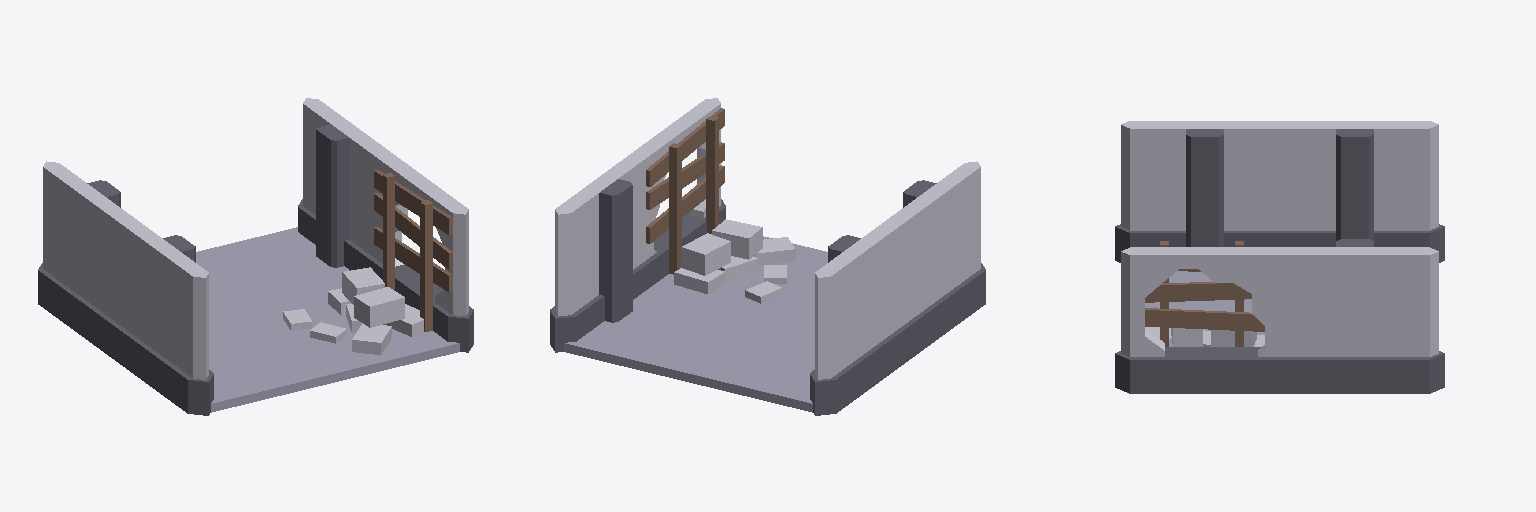
The model's file is hallway_06.obj.
3 views of the same model, side by side, from view 1: azimuth 30°, elevation 25°; view 2: azimuth 150°, elevation 25°; view 3: azimuth 270°, elevation 25° (orthographic).
Visible parts, largest first — view 1: floor_01_11, wall_02_13, wall_04_25, wall_02_12, wall_02_14, debris_bricks_26; view 2: floor_01_11, wall_02_12, wall_02_14, wall_02_13, wall_04_25, debris_bricks_26; view 3: wall_02_14, wall_04_25, wall_02_13, wall_02_12, debris_bricks_26, floor_01_11.
Part boxes in pixels (left/top/right/bottom): floor_01_11: left=196, top=227, right=459, bottom=412; wall_02_13: left=113, top=217, right=213, bottom=415; wall_04_25: left=373, top=153, right=473, bottom=352; wall_02_12: left=38, top=161, right=133, bottom=358; wall_02_14: left=298, top=98, right=393, bottom=270; debris_bricks_26: left=283, top=267, right=423, bottom=354; floor_01_11: left=564, top=236, right=827, bottom=412; wall_02_12: left=810, top=217, right=910, bottom=415; wall_02_14: left=550, top=153, right=650, bottom=352; wall_02_13: left=890, top=161, right=985, bottom=358; wall_04_25: left=631, top=98, right=725, bottom=286; debris_bricks_26: left=674, top=219, right=795, bottom=303; wall_02_14: left=1271, top=239, right=1444, bottom=393; wall_04_25: left=1115, top=241, right=1286, bottom=393; wall_02_13: left=1115, top=121, right=1286, bottom=262; wall_02_12: left=1271, top=121, right=1444, bottom=262; debris_bricks_26: left=1145, top=327, right=1264, bottom=346; floor_01_11: left=1145, top=271, right=1264, bottom=334.
Bounding box in the file's own units: 2.21 × 1 × 2.21.